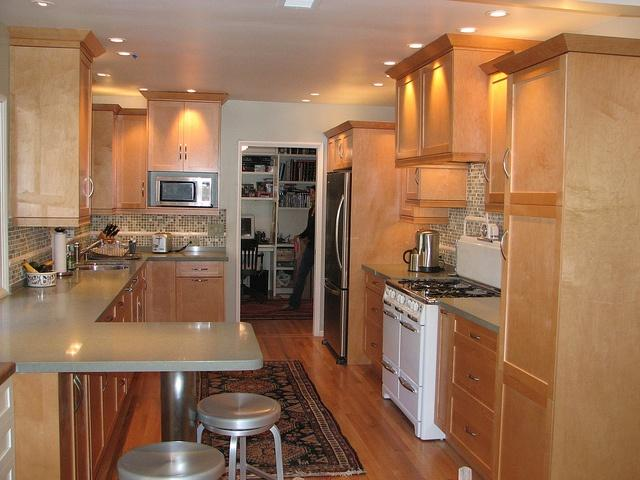Lemari: (487, 49, 570, 479), (392, 45, 453, 168), (145, 97, 220, 173)
